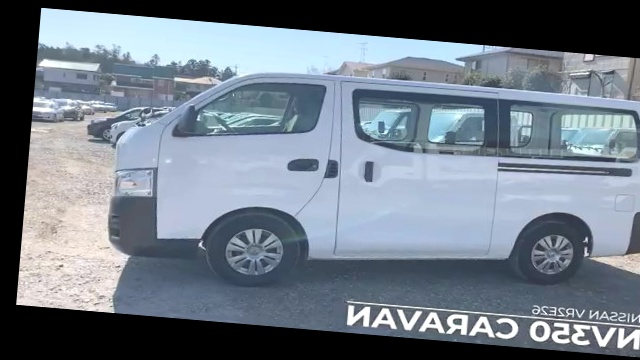van: (100, 54, 640, 319)
